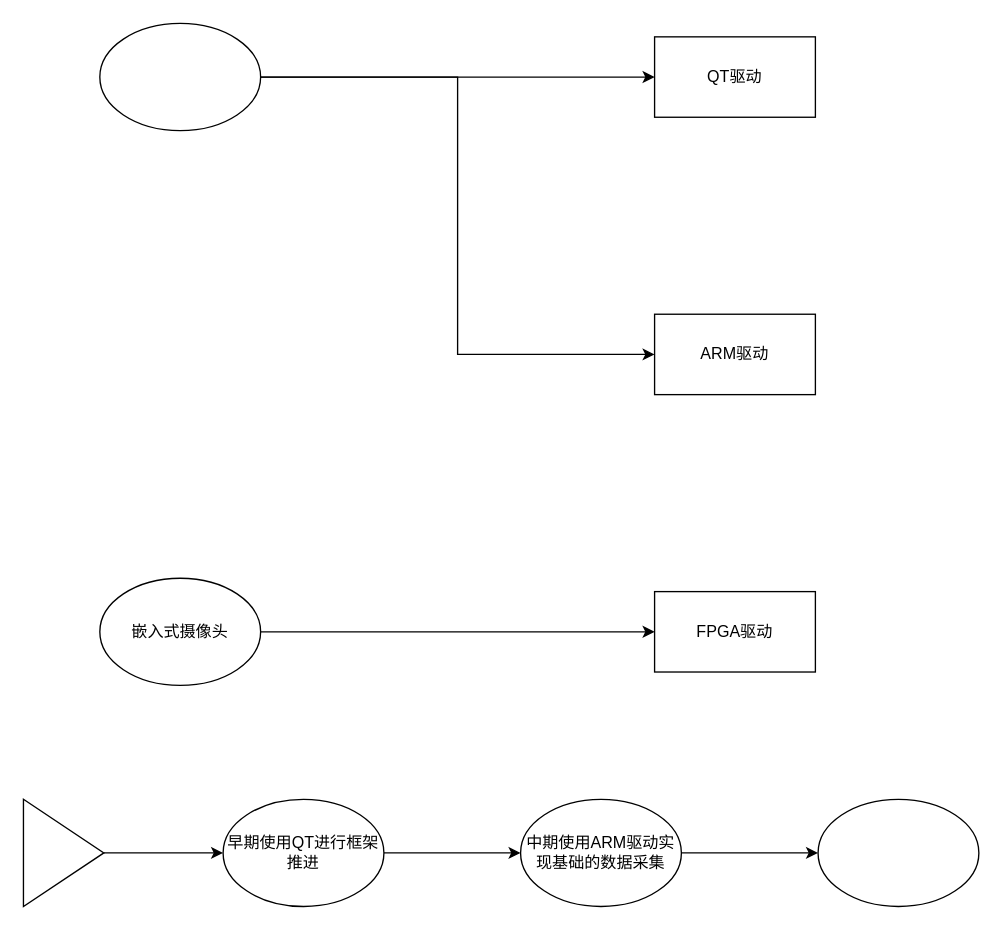
This 1002x930 diagram has some shape labels left out. The shapes that lost their labels are listed below. From the top down, each one's centre as x and y in pixels, then its label:
point 179,76: USB摄像头
point 63,852: 设计布局
point 898,852: 后期采用各类的驱动完成数据的多样采集
